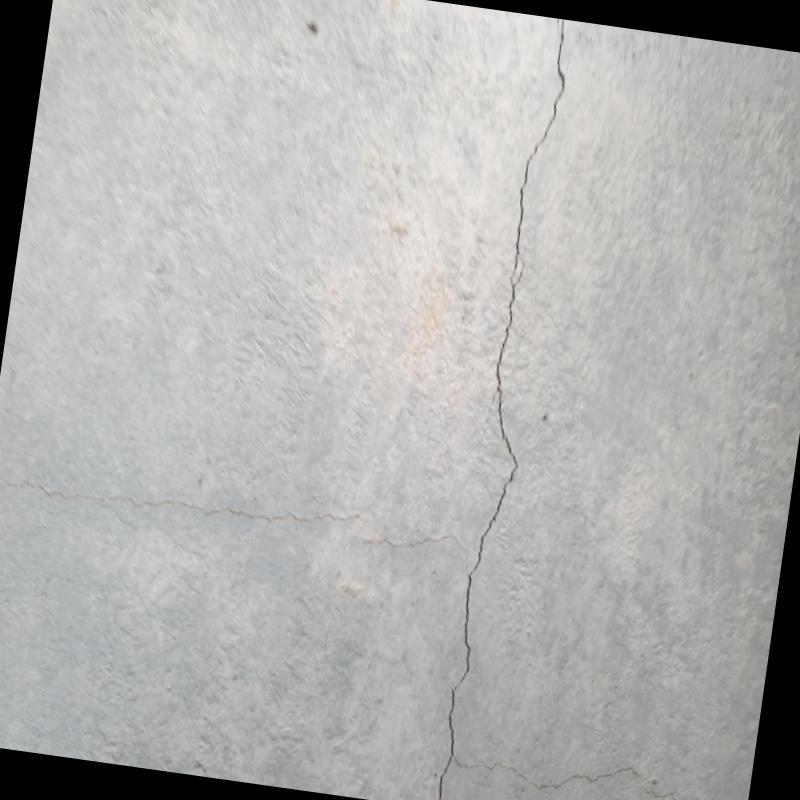crack: (438, 20, 566, 800)
